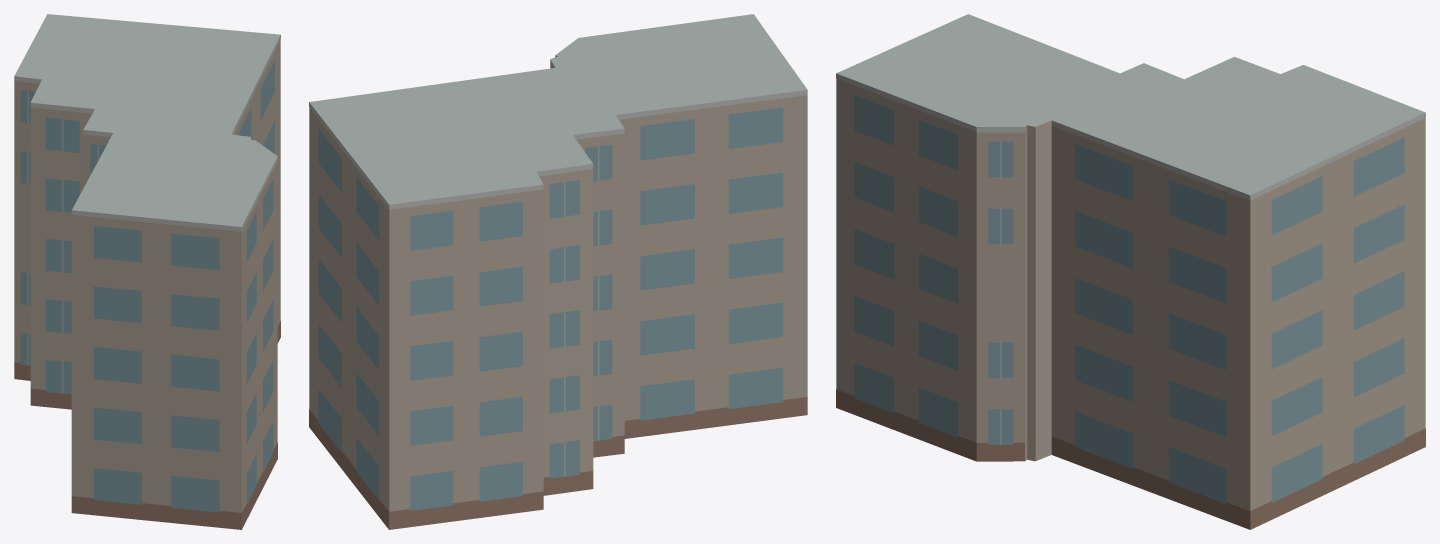
File: survey-upis-33021585.glb
3 views of the same model, side by side, from view 1: azimuth 30°, elevation 25°; view 2: azimuth 150°, elevation 25°; view 3: azimuth 270°, elevation 25° (orthographic). The views are drawn at different scales.
Visible parts, largest first — view 1: survey-upis-33021585.tmp; view 2: survey-upis-33021585.tmp; view 3: survey-upis-33021585.tmp.
Boxes of the visible parts, left/top/right/bottom form: survey-upis-33021585.tmp: left=14, top=14, right=280, bottom=529; survey-upis-33021585.tmp: left=309, top=14, right=807, bottom=529; survey-upis-33021585.tmp: left=836, top=14, right=1425, bottom=529.
Bounding box in the file's own units: 18.04 × 15.5 × 24.77.
